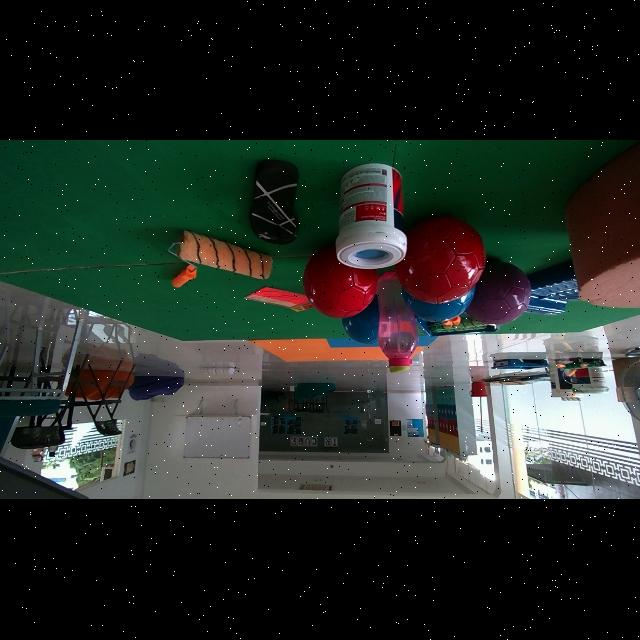B: (402, 287, 476, 323), (342, 298, 380, 346)
P: (467, 261, 531, 326)
R: (395, 217, 486, 304), (303, 246, 377, 319)
